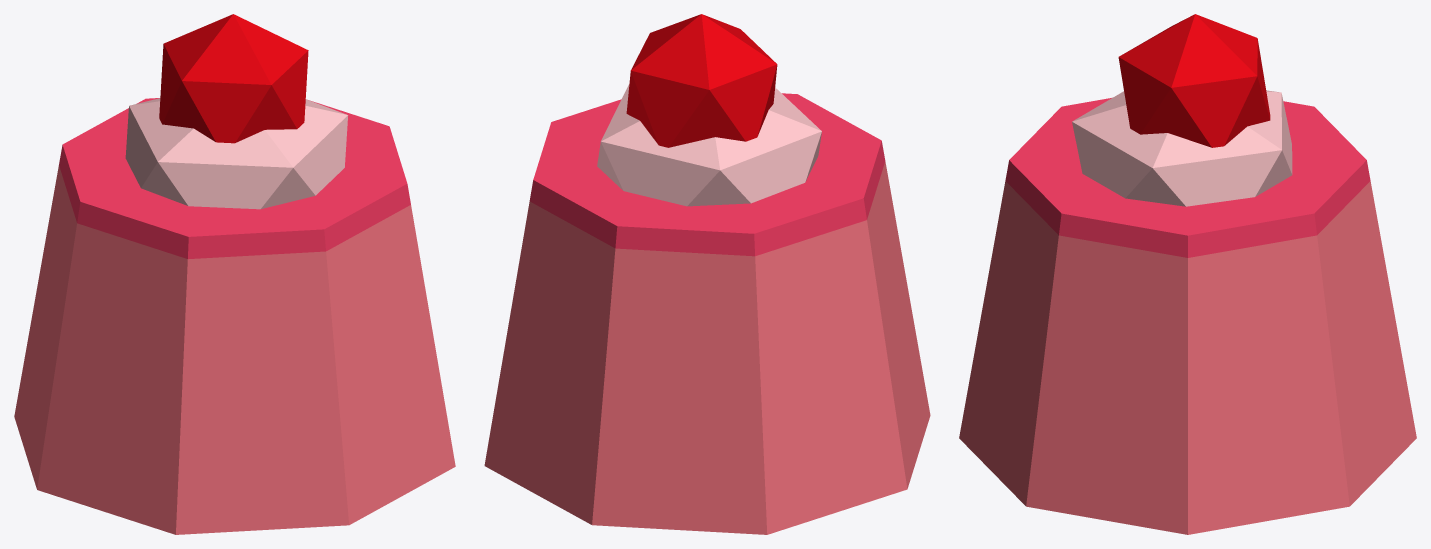
Rendered from pudding_strawberry.fbx.
The picture shows the model from 3 angles, left to right: view 1: azimuth 30°, elevation 25°; view 2: azimuth 150°, elevation 25°; view 3: azimuth 270°, elevation 25°; orthographic projection.
Parts seen in each view (by area): view 1: pudding_strawberry; view 2: pudding_strawberry; view 3: pudding_strawberry.
Part boxes in pixels (box(x1,y1,x2,y2)): pudding_strawberry: box(14, 14, 455, 534); pudding_strawberry: box(484, 14, 930, 534); pudding_strawberry: box(959, 14, 1416, 534).
Size of the model in its own units: 7.15 by 7.33 by 7.15.
